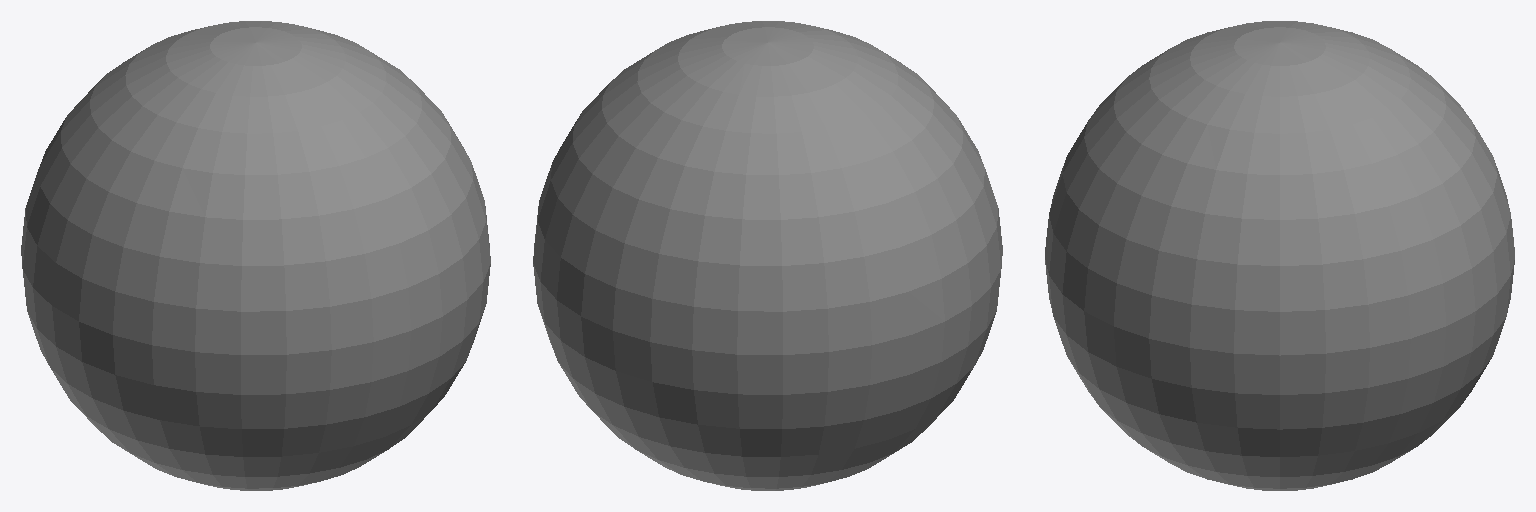
The model's file is skybox_sphere.obj.
3 renders of one model, left to right at view 1: azimuth 30°, elevation 25°; view 2: azimuth 150°, elevation 25°; view 3: azimuth 270°, elevation 25°, orthographic.
Visible parts, largest first — view 1: Sphere001; view 2: Sphere001; view 3: Sphere001.
Part boxes in pixels (x1,y1,x2,y2): Sphere001: (21,21,490,490); Sphere001: (533,21,1002,490); Sphere001: (1045,21,1514,490).
Bounding box in the file's own units: 17.37 × 17.37 × 17.37.